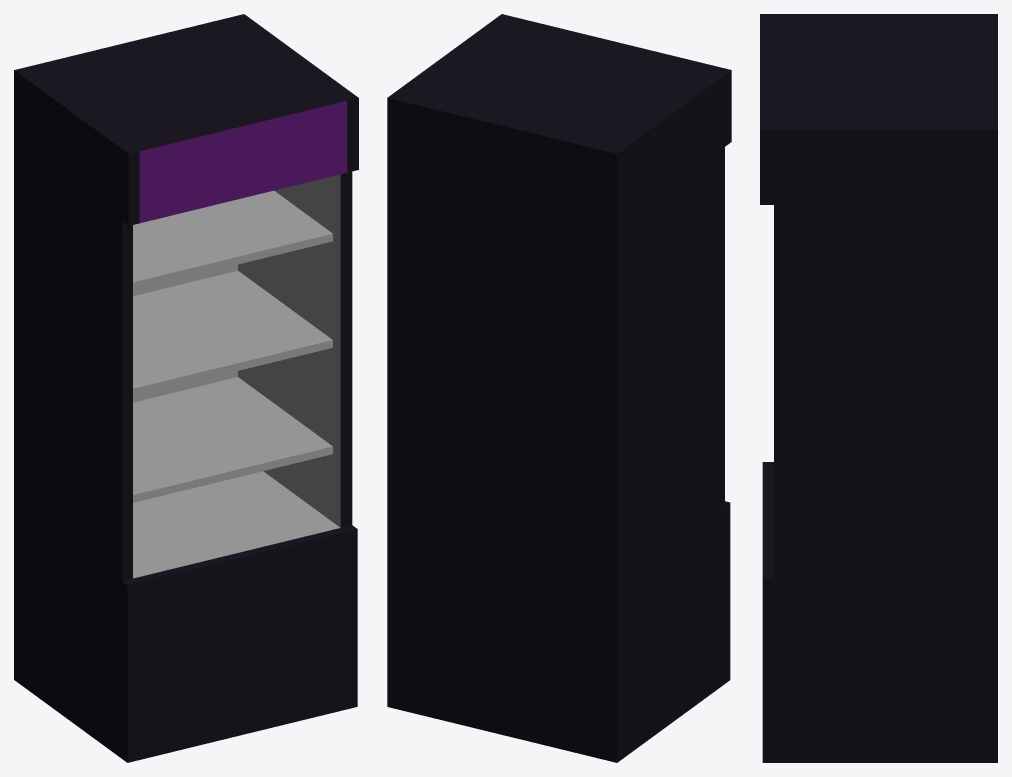
The model's file is CoolerShelf.fbx.
3 views of the same model, side by side, from view 1: azimuth 30°, elevation 25°; view 2: azimuth 150°, elevation 25°; view 3: azimuth 270°, elevation 25° (orthographic). The views are drawn at different scales.
Parts seen in each view (by area): view 1: OuterFreezer, Shelve; view 2: OuterFreezer; view 3: OuterFreezer.
Boxes of the visible parts, <box> form: OuterFreezer: <box>14,14,358,762</box>; Shelve: <box>133,190,332,502</box>; OuterFreezer: <box>387,14,731,762</box>; OuterFreezer: <box>760,14,997,762</box>.
Size of the model in its own units: 53.5 by 136 by 46.16.
